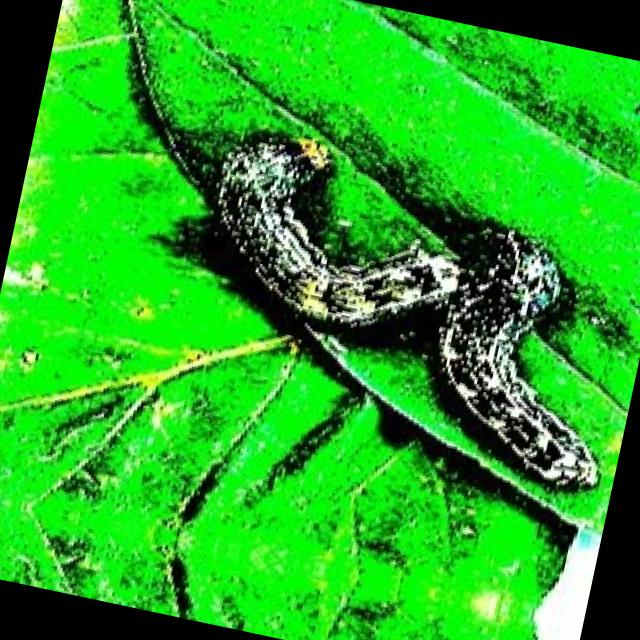Armyworm: (161, 117, 476, 370), (406, 228, 640, 517)
